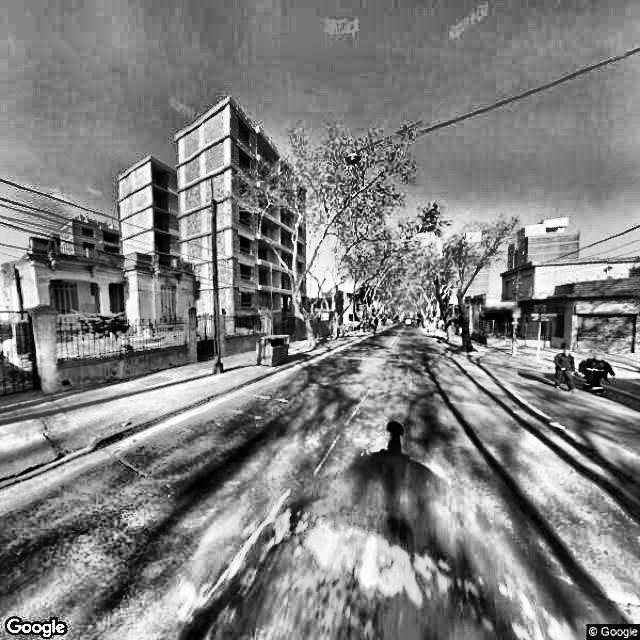Dustbin: (246, 330, 300, 370)
